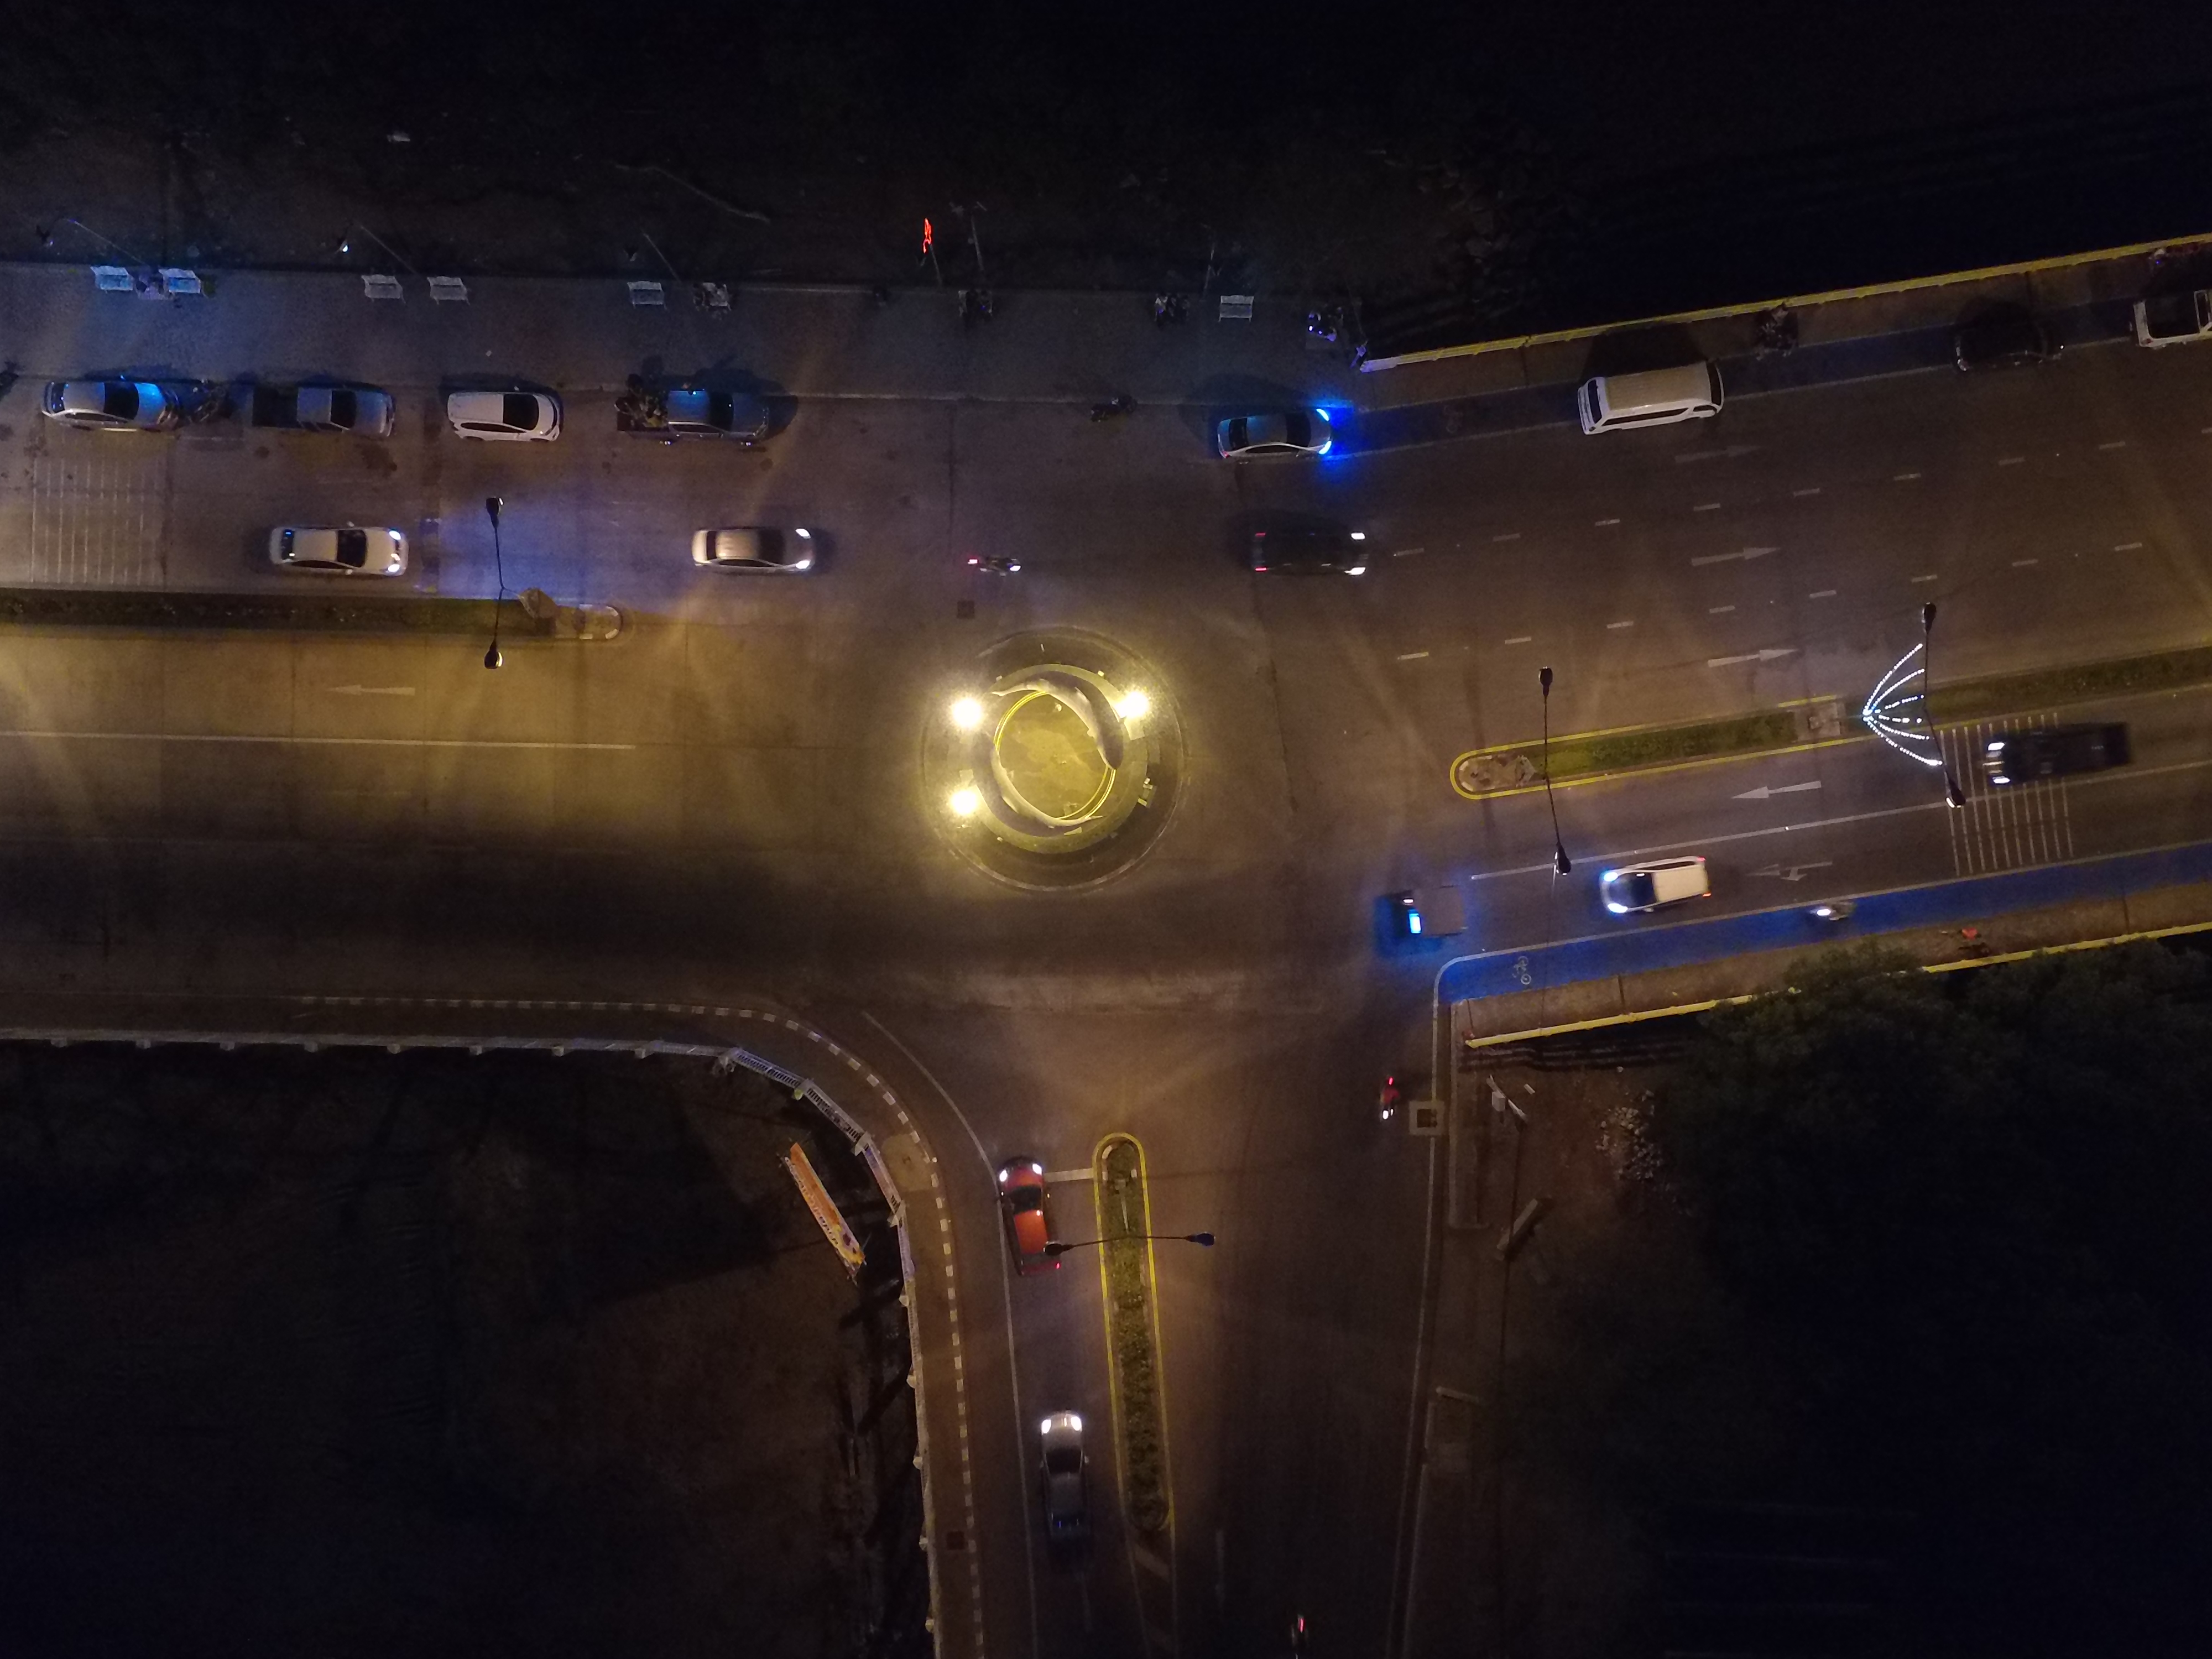car: (1228, 504, 1406, 603), (1181, 380, 1357, 479), (1559, 357, 1737, 455), (1580, 833, 1745, 929), (1965, 699, 2130, 795), (678, 512, 843, 608), (618, 373, 784, 469), (418, 375, 583, 471), (258, 509, 423, 605), (242, 375, 408, 471), (30, 350, 195, 444), (1925, 307, 2085, 399), (977, 1133, 1069, 1286), (1015, 1399, 1106, 1553)
